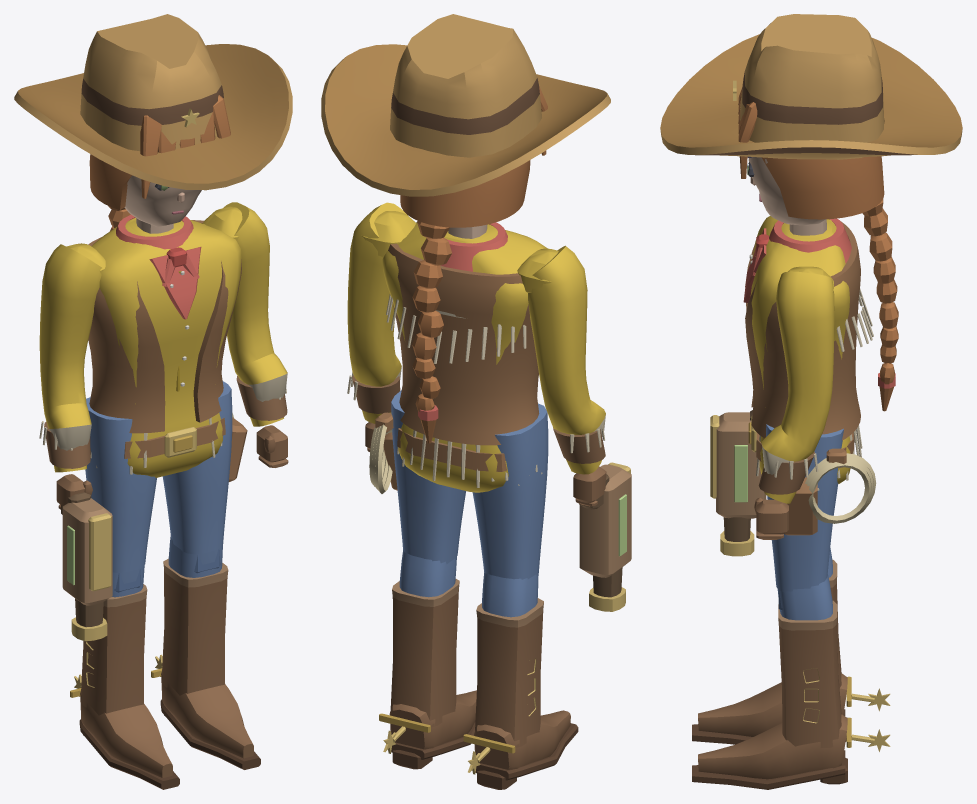
Rendered from jo_cowgirl.glb.
3 views of the same model, side by side, from view 1: azimuth 30°, elevation 25°; view 2: azimuth 150°, elevation 25°; view 3: azimuth 270°, elevation 25° (orthographic). The views are drawn at different scales.
Visible parts, largest first — view 1: coiffe, torso, jambe_l, arm_r, jambe_r, arm_l, leg_r, leg_l, gun, hair, col, head (+2 smaller); view 2: coiffe, torso, jambe_r, arm_r, jambe_l, arm_l, leg_r, leg_l, gun, hair, shin_r, shin_l (+5 smaller); view 3: coiffe, torso, jambe_l, arm_l, hair, gun, leg_l, jambe_r, dos, head, col, shin_l (+4 smaller).
Part boxes in pixels (x1,y1,x2,y2): coiffe: (14, 14, 292, 190); torso: (88, 217, 247, 481); jambe_l: (151, 558, 260, 769); arm_r: (39, 243, 105, 509); jambe_r: (70, 584, 179, 789); arm_l: (203, 202, 288, 467); leg_r: (85, 397, 156, 572); leg_l: (162, 381, 232, 554); gun: (61, 492, 112, 641); hair: (89, 95, 230, 209); col: (116, 214, 201, 319); head: (124, 175, 201, 233); coiffe: (321, 14, 610, 196); torso: (382, 222, 547, 492); jambe_r: (463, 598, 578, 789); arm_r: (517, 245, 606, 506); jambe_l: (379, 579, 476, 769); arm_l: (347, 202, 416, 451); leg_r: (472, 403, 548, 579); leg_l: (391, 390, 465, 564); gun: (579, 462, 631, 611); hair: (400, 85, 547, 227); shin_r: (482, 572, 538, 617); shin_l: (399, 550, 456, 597); coiffe: (660, 14, 962, 159); torso: (745, 216, 873, 535); jambe_l: (692, 600, 890, 789); arm_l: (754, 266, 834, 539); hair: (738, 88, 884, 219); gun: (710, 410, 766, 556); leg_l: (766, 424, 843, 592); jambe_r: (692, 559, 890, 744); dos: (805, 448, 876, 523); head: (747, 156, 826, 235); col: (743, 218, 851, 302); shin_l: (777, 574, 832, 620).
Size of the model in its own units: 0.457 by 1.28 by 0.4811.
